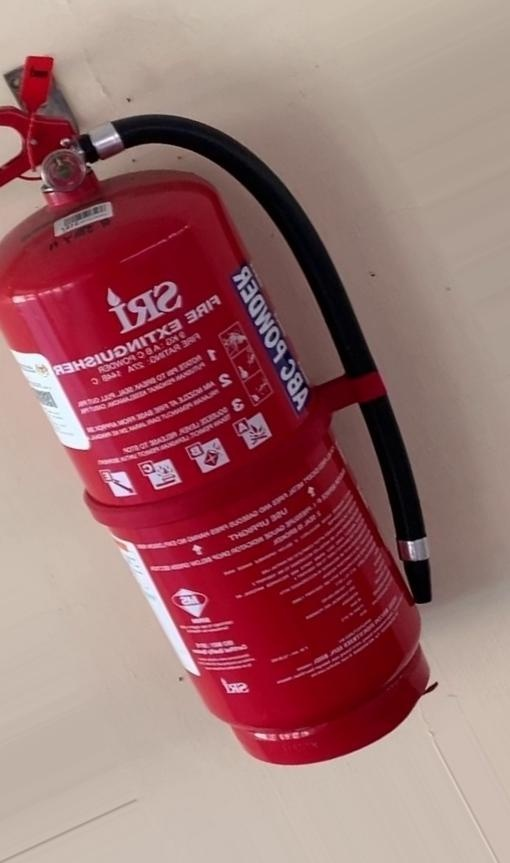fire_extinguisher: (1, 54, 438, 766)
